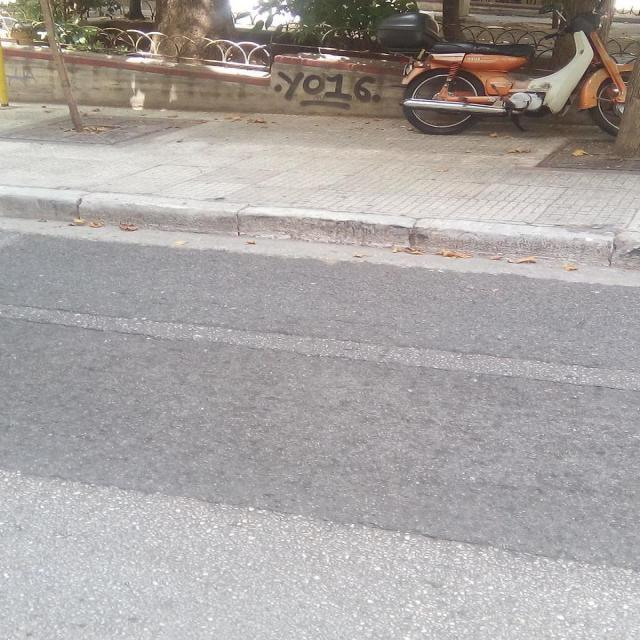nonspitting: (273, 72, 382, 110)
